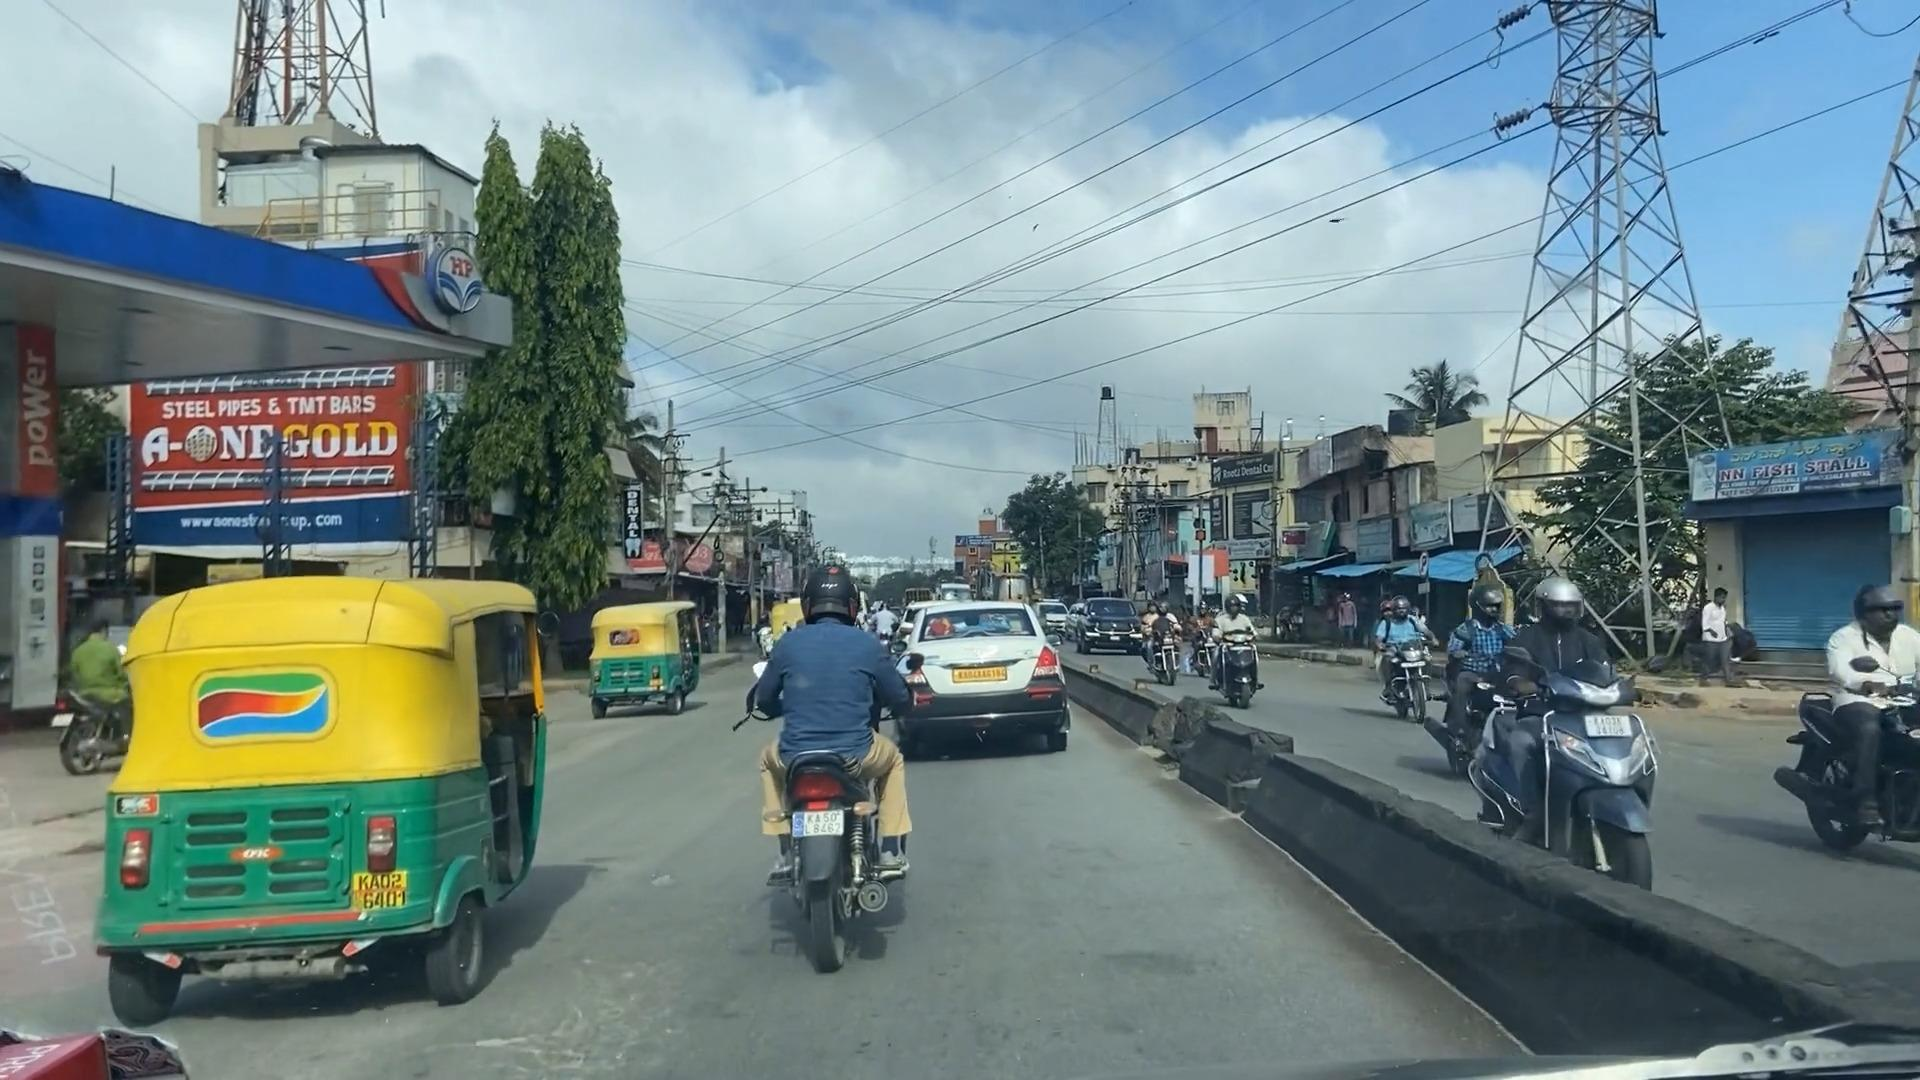LMV: (100, 595, 545, 998), (741, 578, 907, 976), (903, 605, 1069, 754)
RoadDamages: (483, 927, 684, 1080)
